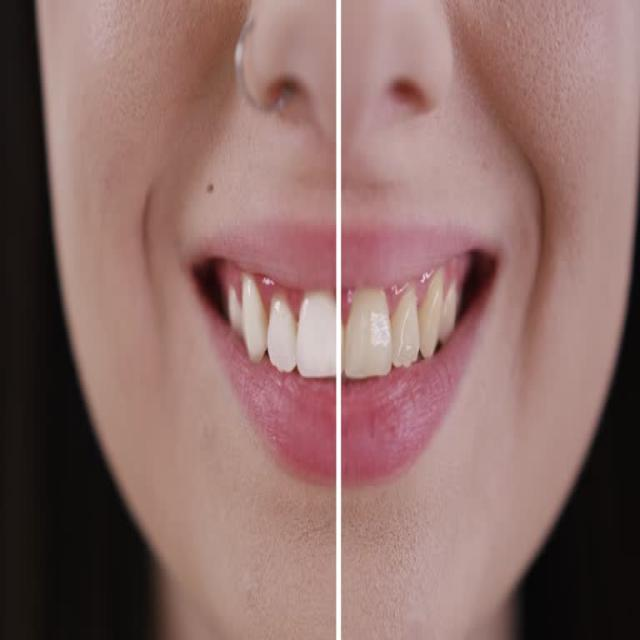tooth: (343, 290, 394, 378), (296, 305, 341, 376), (261, 305, 297, 372), (388, 296, 420, 363), (420, 282, 448, 352), (242, 277, 265, 360), (442, 283, 459, 341), (223, 288, 240, 330)
